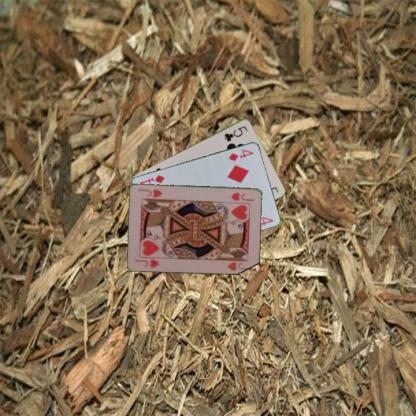4d: (226, 147, 255, 162)
5c: (221, 123, 249, 143)
Jh: (133, 254, 163, 268), (228, 190, 256, 202)
